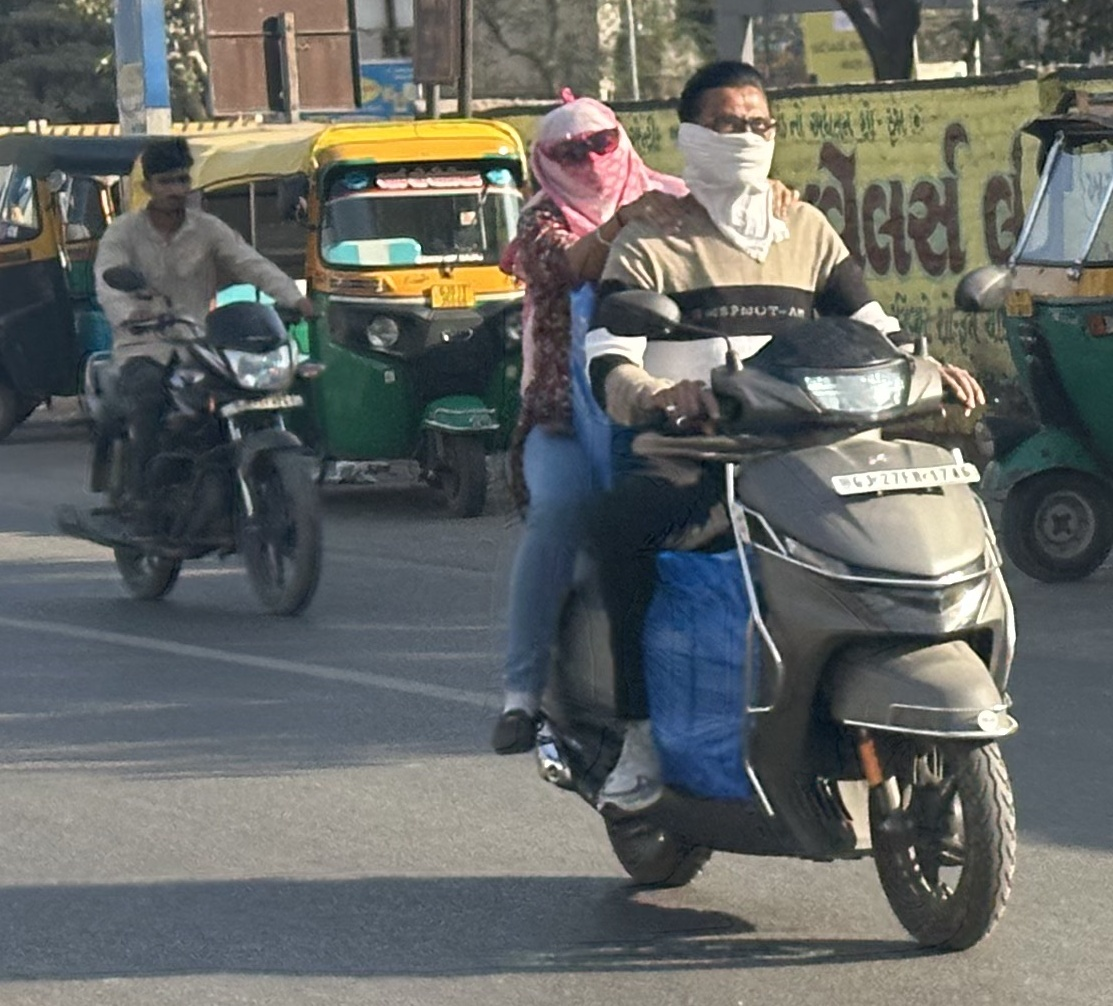Helmet: (662, 52, 795, 202), (518, 81, 651, 226), (123, 130, 212, 232)
NoHelmet: (477, 46, 1036, 963), (42, 126, 343, 626)
